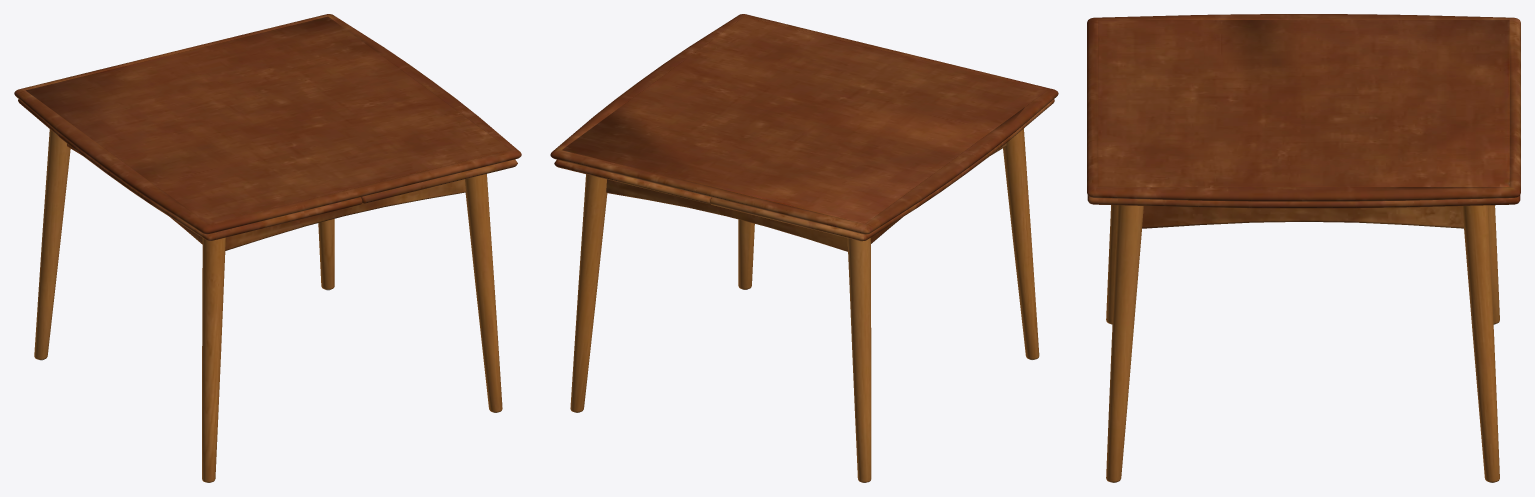
3 renders of one model, left to right at view 1: azimuth 30°, elevation 25°; view 2: azimuth 150°, elevation 25°; view 3: azimuth 270°, elevation 25°, orthographic. The views are drawn at different scales.
Parts seen in each view (by area): view 1: consolidatedNode; view 2: consolidatedNode; view 3: consolidatedNode.
Boxes of the visible parts, box(x1,y1,x2,y2) form: consolidatedNode: box(14, 14, 521, 482); consolidatedNode: box(550, 14, 1058, 482); consolidatedNode: box(1087, 14, 1520, 482).
Size of the model in its own units: 0.9906 by 0.7538 by 0.9906.
1 material, 1 textured.
